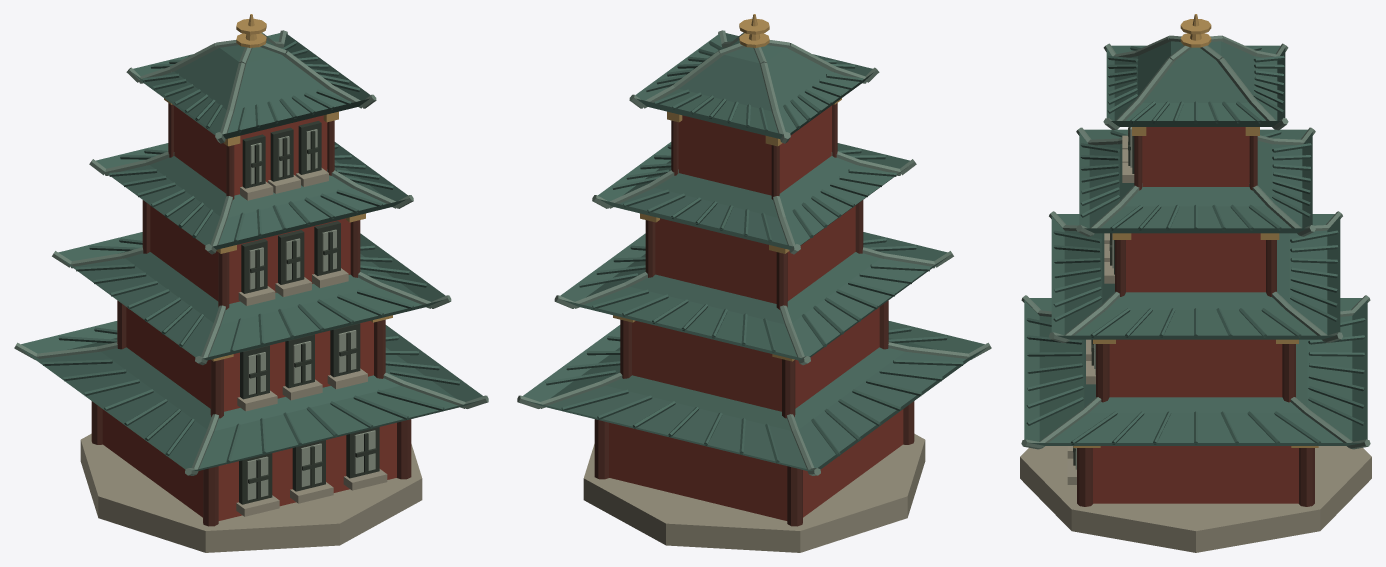
Rendered from build-red-pagoda.glb.
3 renders of one model, left to right at view 1: azimuth 30°, elevation 25°; view 2: azimuth 150°, elevation 25°; view 3: azimuth 270°, elevation 25°, orthographic.
Parts seen in each view (by area): view 1: SculptedModel; view 2: SculptedModel; view 3: SculptedModel.
Boxes of the visible parts, x1,y1,x2,y2 form: SculptedModel: (14,14,488,552); SculptedModel: (517,14,991,552); SculptedModel: (1020,14,1371,552).
Bounding box in the file's own units: 4.1 × 5.96 × 4.1.
